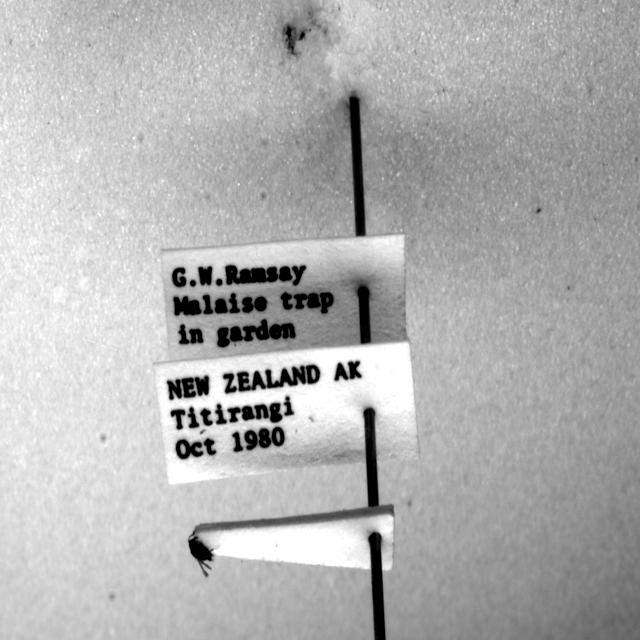typed_label: (154, 341, 419, 484), (161, 234, 406, 360)
